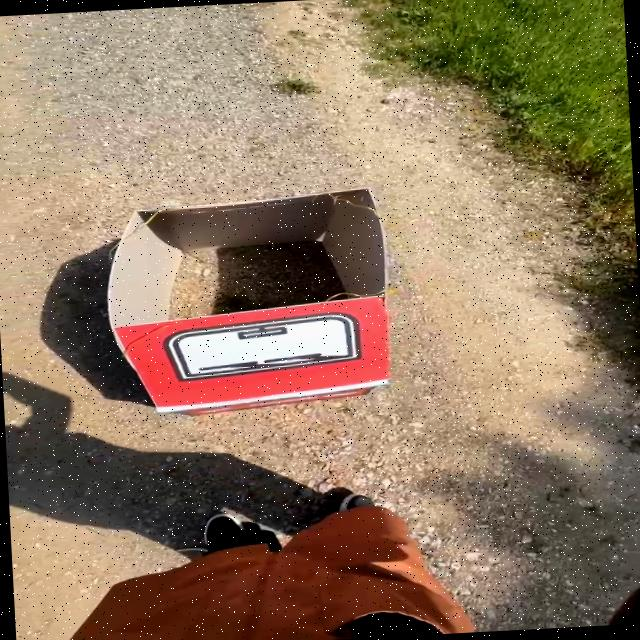red_car: (0, 163, 464, 443)
